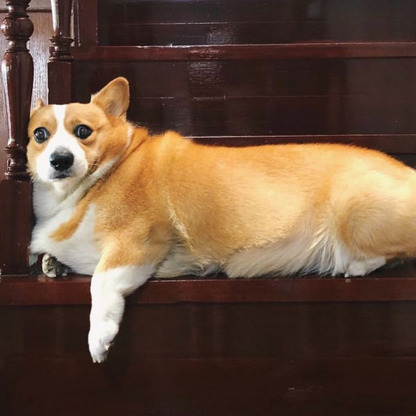Corgi: (24, 93, 408, 307)
